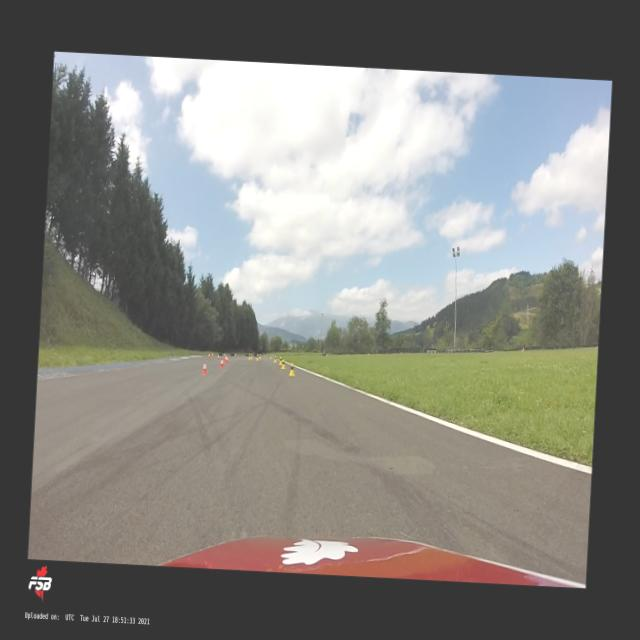orange_cone: (202, 361, 208, 376), (220, 358, 224, 368), (226, 356, 228, 364), (225, 355, 227, 363), (234, 353, 237, 358), (218, 354, 220, 360), (212, 352, 214, 358), (224, 353, 226, 359), (208, 354, 210, 358)
yellow_cone: (288, 362, 296, 376), (281, 358, 286, 369), (279, 356, 283, 366), (274, 354, 277, 362), (256, 354, 259, 360), (259, 354, 262, 359), (270, 353, 272, 359), (248, 354, 250, 359), (250, 354, 252, 359)
